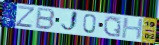0: (82, 14, 98, 35)
B: (34, 7, 57, 31)
H: (120, 17, 145, 41)
J: (60, 11, 79, 34)
Q: (103, 15, 122, 38)
Z: (15, 5, 37, 29)
